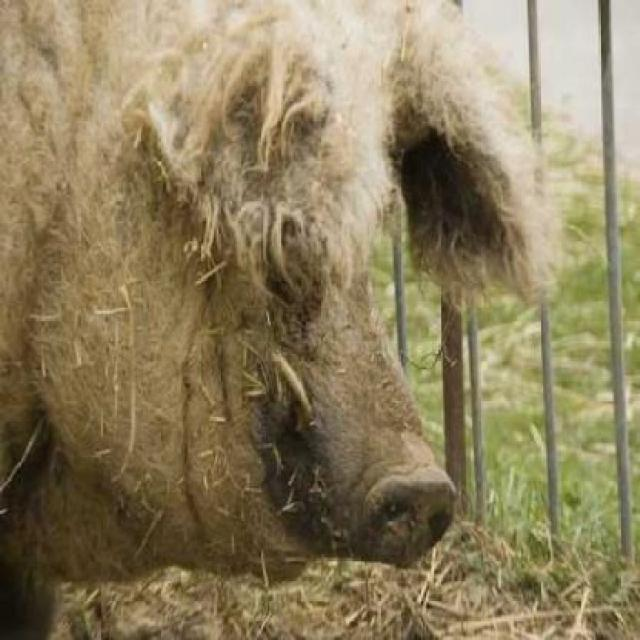pig: (32, 2, 521, 636)
